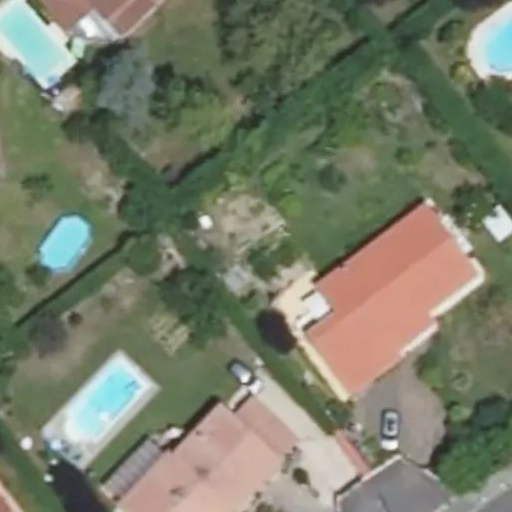pool: (222, 221, 289, 261)
